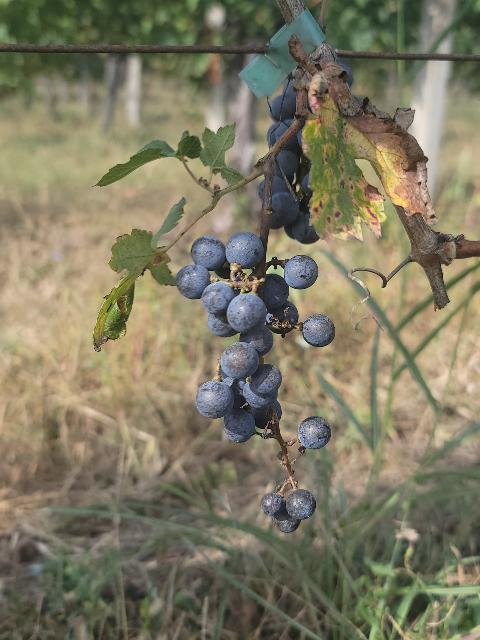grapes: (176, 232, 335, 532)
